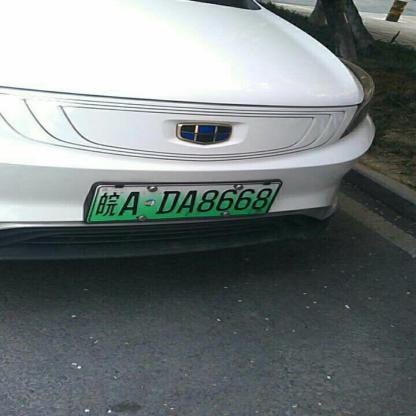lp: (92, 182, 280, 220)
